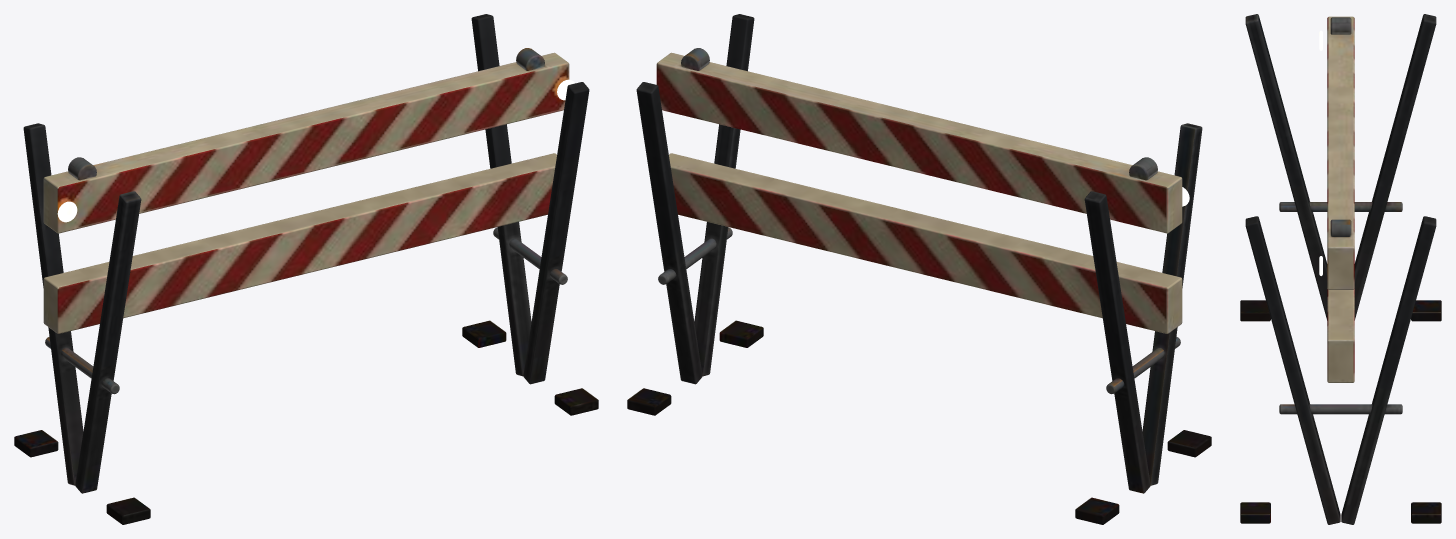
The model's file is hazard_barrier.glb.
3 renders of one model, left to right at view 1: azimuth 30°, elevation 25°; view 2: azimuth 150°, elevation 25°; view 3: azimuth 270°, elevation 25°, orthographic. The views are drawn at different scales.
Parts seen in each view (by area): view 1: hazard_barrier; view 2: hazard_barrier; view 3: hazard_barrier.
Part boxes in pixels (bbox=[...]): hazard_barrier: bbox=[14, 14, 598, 524]; hazard_barrier: bbox=[627, 14, 1211, 524]; hazard_barrier: bbox=[1240, 14, 1441, 524].
Bounding box in the file's own units: 1.62 × 0.9776 × 0.59.
2 materials, 2 textured.
